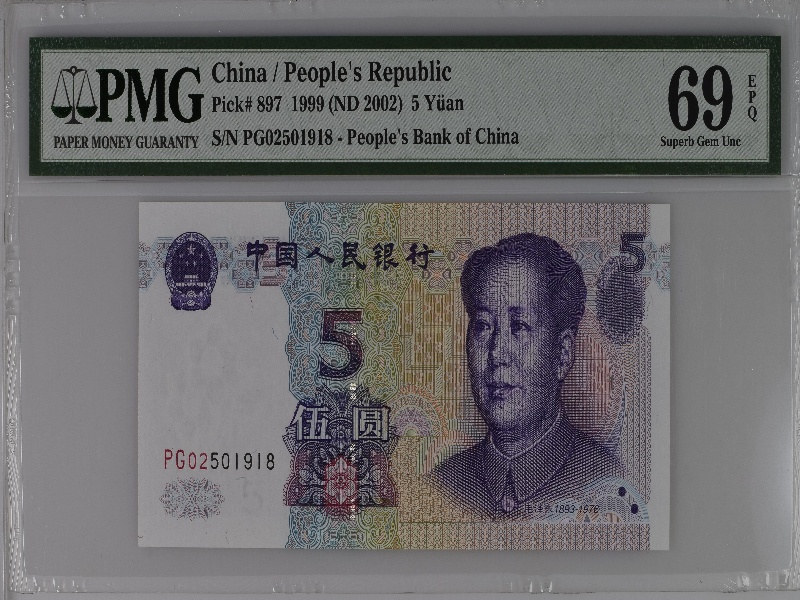papernote: (137, 197, 675, 554)
